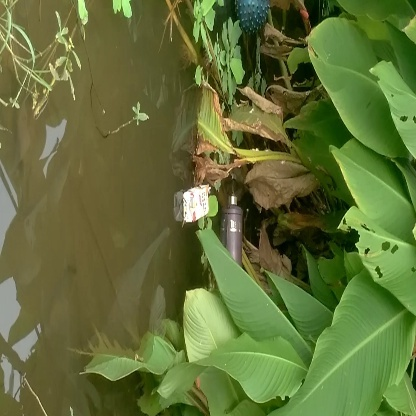ball: (232, 1, 274, 38)
bottle: (224, 189, 246, 272)
milk-box: (180, 178, 214, 226)
